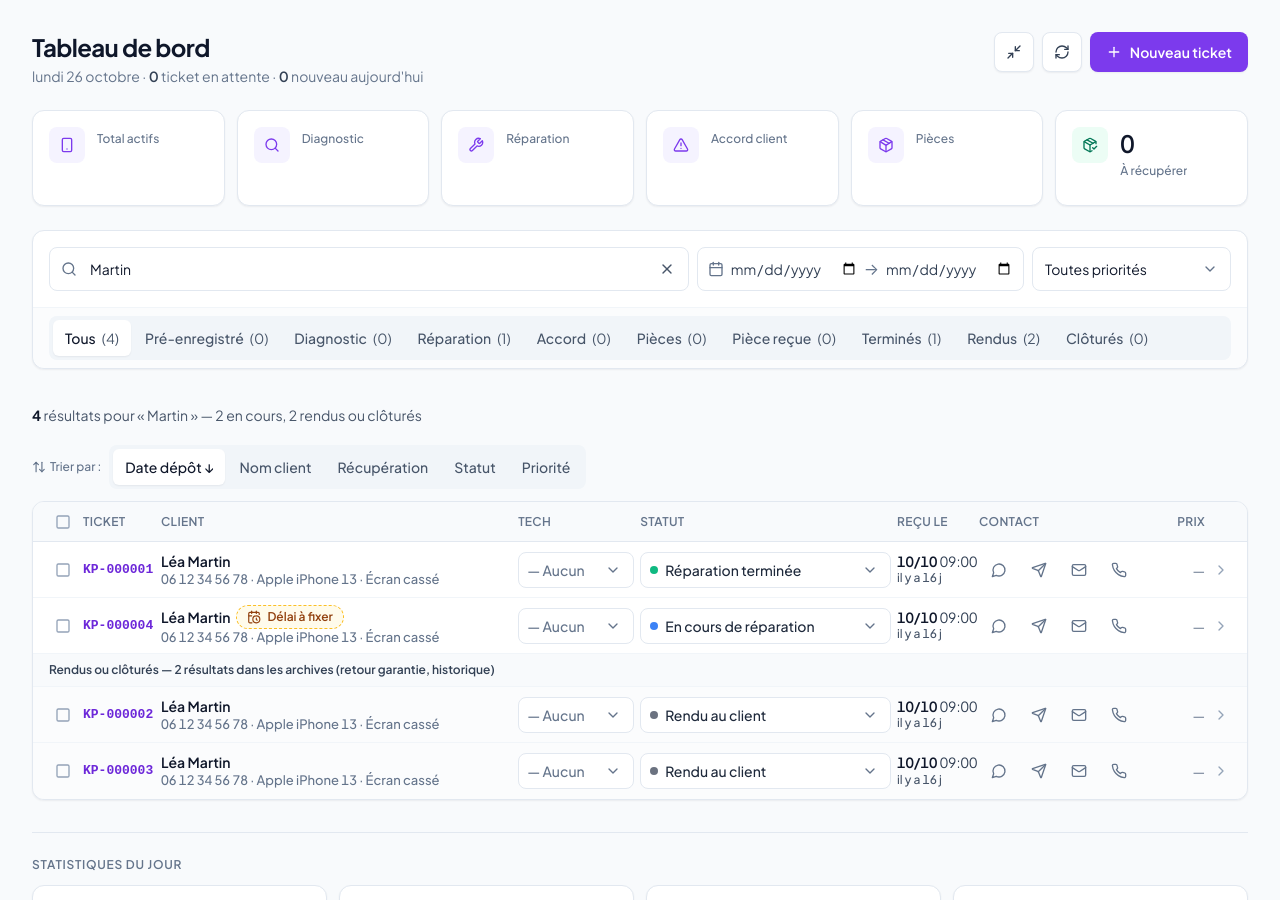
Test: DashboardPage : statut en ligne › ticket déjà rendu → « Clôturé » : PATCH ; 409 utiliser_restitution → message + panneau
Select "Clôturé" in the dropdown named "Statut du ticket KP-000002": coordinates (766, 714) [640,696,891,732]
Select "Clôturé" in the dropdown named "Statut du ticket KP-000003": coordinates (766, 771) [640,753,891,789]
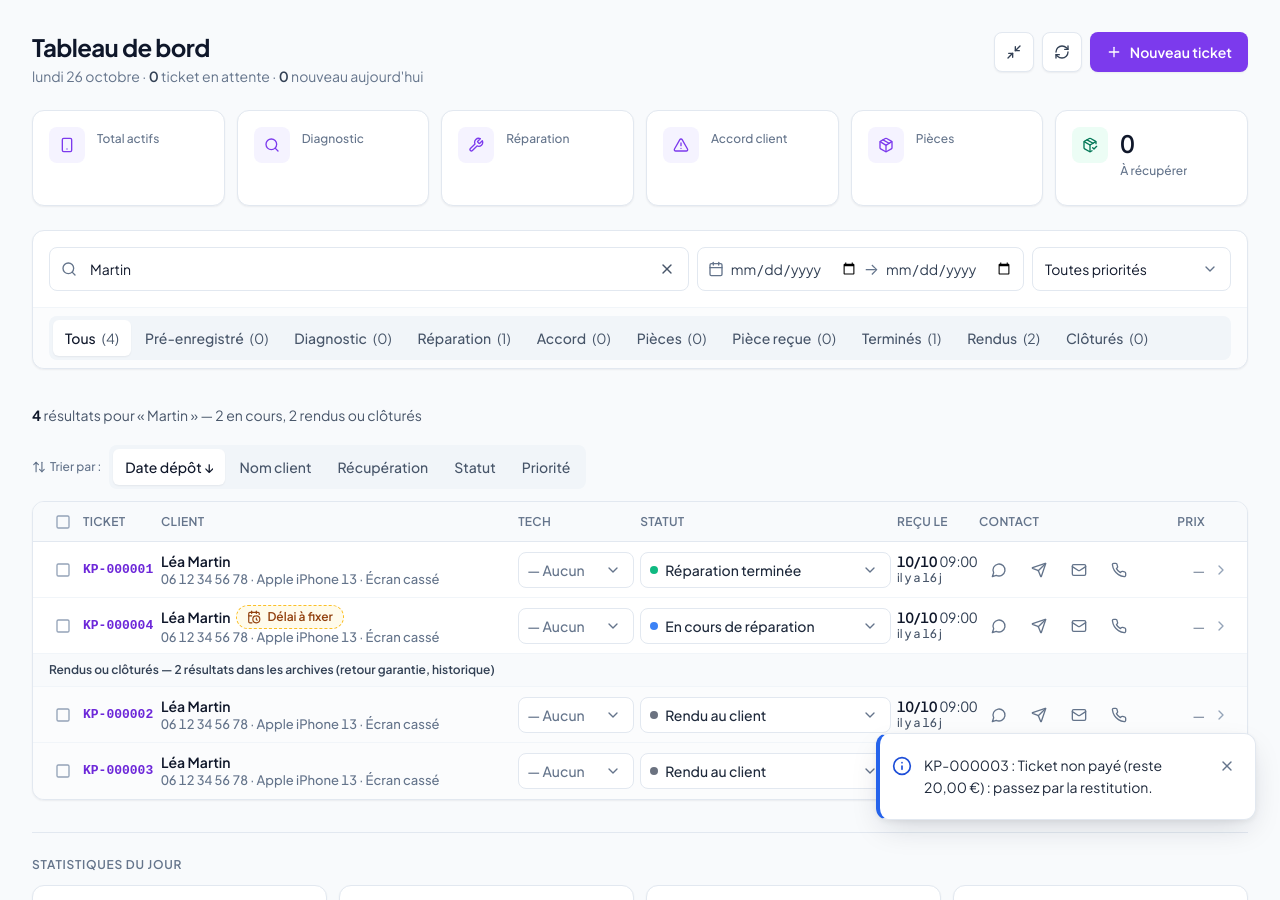
expect the text "KP-000003 : Ticket non payé (reste 20,00 €) : passez par la restitution." is shown: met, box [924,754,1195,799]
